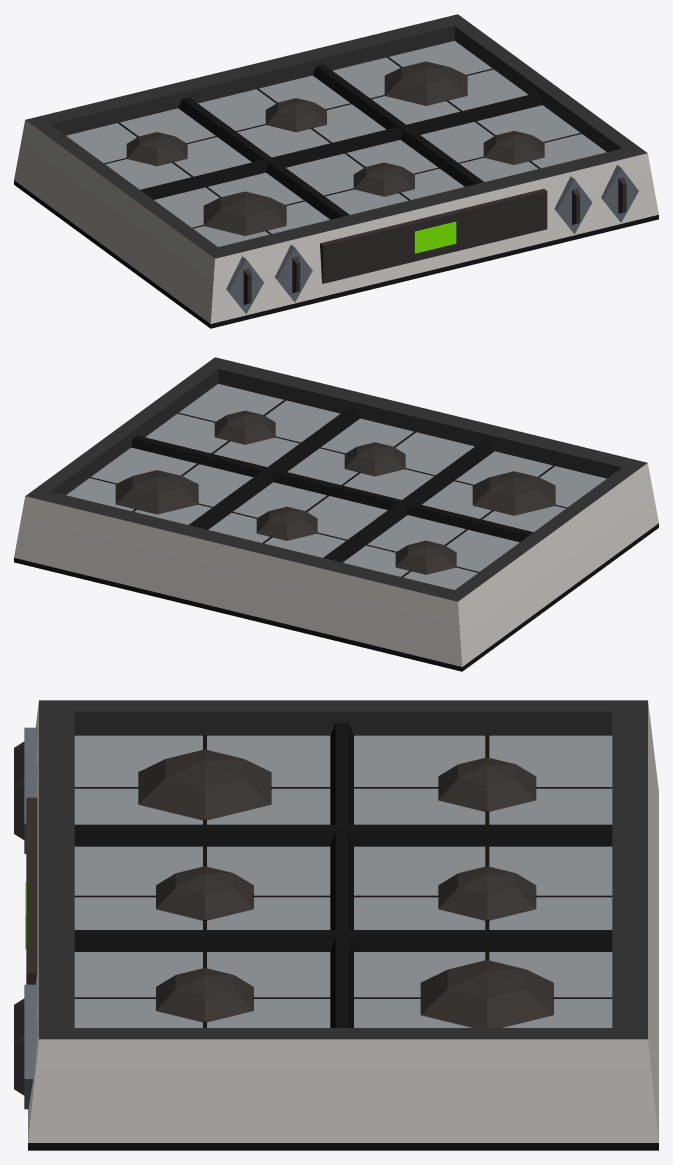
File: Kitchen_Cooking.fbx
3 views of the same model, one above another, from view 1: azimuth 30°, elevation 25°; view 2: azimuth 150°, elevation 25°; view 3: azimuth 270°, elevation 25° (orthographic). The views are drawn at different scales.
Visible parts, largest first — view 1: polySurface2174; view 2: polySurface2174; view 3: polySurface2174.
Part boxes in pixels (left/top/right/bottom): polySurface2174: left=14, top=14, right=658, bottom=328; polySurface2174: left=14, top=357, right=658, bottom=671; polySurface2174: left=14, top=700, right=658, bottom=1150.
Bounding box in the file's own units: 0.8 × 0.1158 × 0.6215.
Materials: 1 (1 with a texture image).
